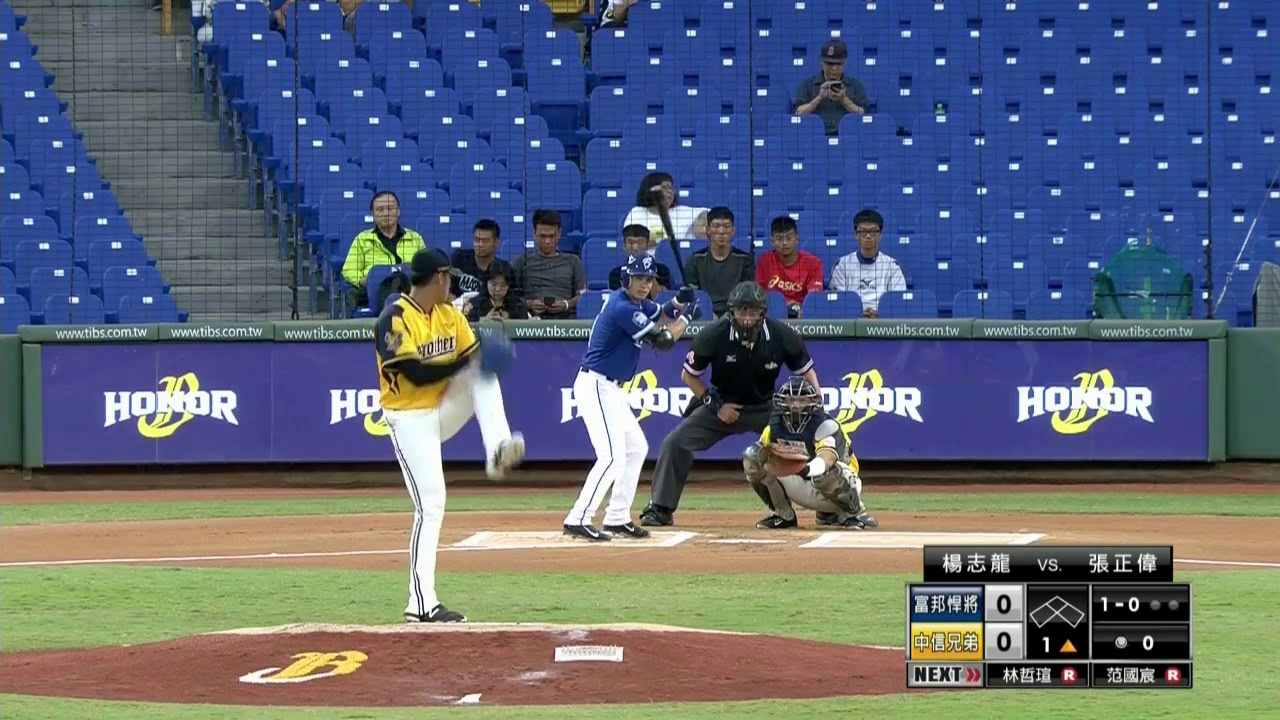base: (1029, 593, 1086, 629)
bat: (645, 181, 695, 290)
out: (1146, 597, 1180, 612)
score1: (985, 584, 1022, 621)
score2: (985, 623, 1022, 659)
session: (1036, 634, 1080, 653)
strikeball: (1096, 594, 1140, 615)
total: (1108, 629, 1160, 651)
